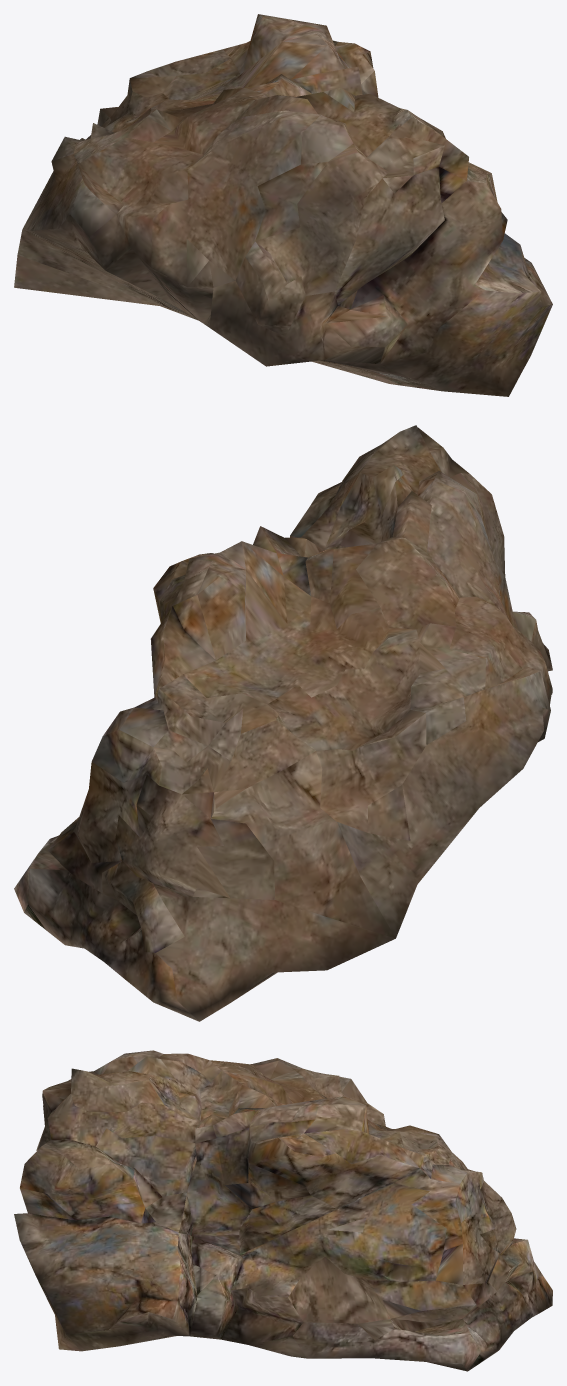
Rendered from boulder_01.glb.
The picture shows the model from 3 angles, top to bottom: view 1: azimuth 30°, elevation 25°; view 2: azimuth 150°, elevation 25°; view 3: azimuth 270°, elevation 25°; orthographic projection. The views are drawn at different scales.
Visible parts, largest first — view 1: lod0; view 2: lod0; view 3: lod0.
Boxes of the visible parts, bbox=[...] form: lod0: bbox=[14, 14, 552, 396]; lod0: bbox=[14, 425, 552, 1021]; lod0: bbox=[14, 1050, 552, 1371].
Size of what is drawn, in the model's own units: 2.37 by 1.86 by 3.37.
1 material, 1 textured.
